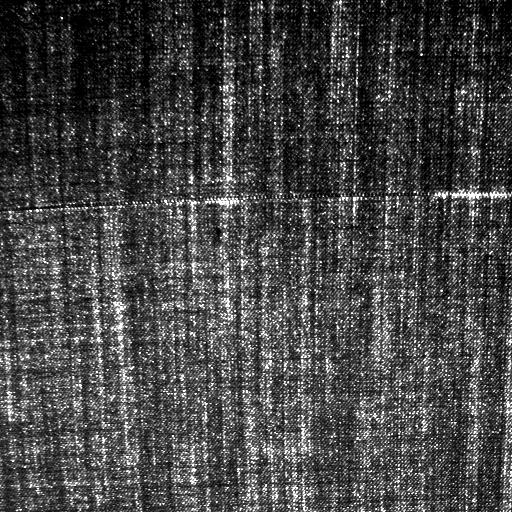fabric_hole: (25, 184, 491, 206)
